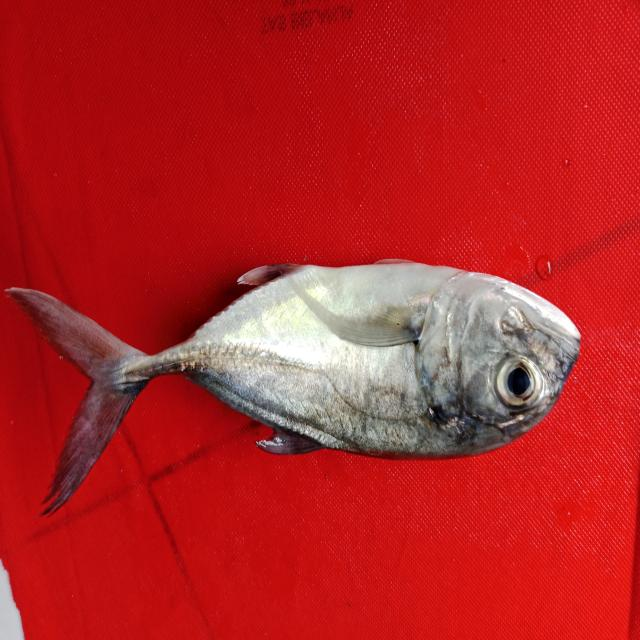ikan: (12, 200, 602, 540)
